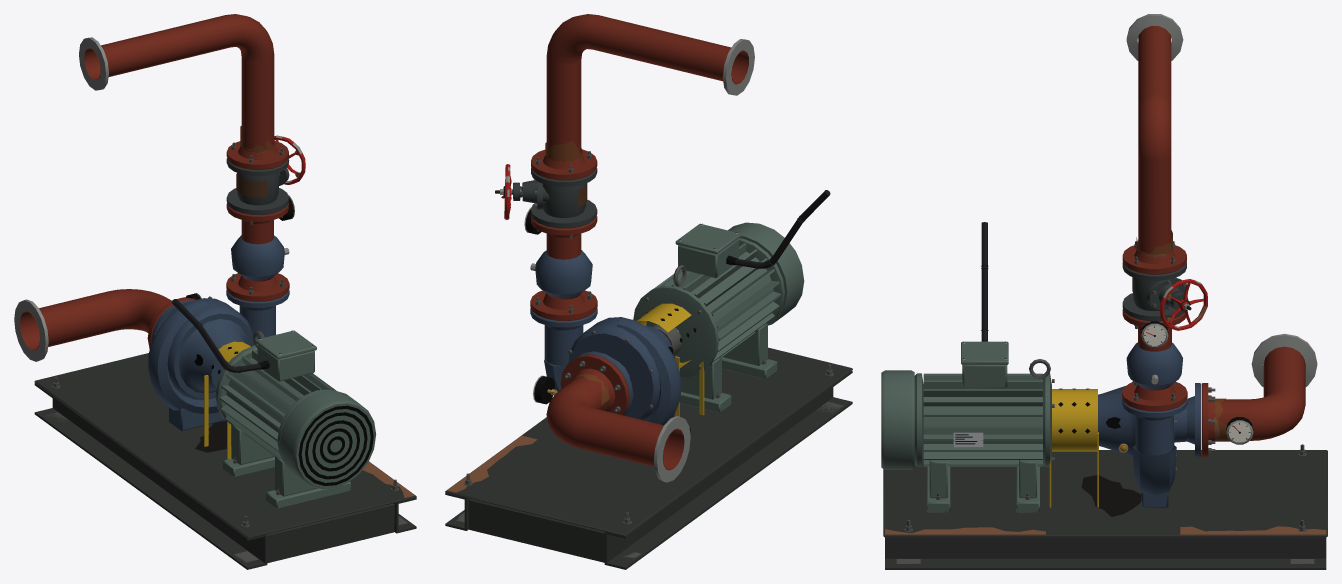
The model's file is mach_pump.glb.
The picture shows the model from 3 angles, left to right: view 1: azimuth 30°, elevation 25°; view 2: azimuth 150°, elevation 25°; view 3: azimuth 270°, elevation 25°; orthographic projection. The views are drawn at different scales.
Visible parts, largest first — view 1: pumpe0, pumpe13, pumpe2, pumpe10, pumpe3, pumpe17, pumpe14, pumpe1, pumpe9, pumpe6, pumpe22, pumpe18; view 2: pumpe0, pumpe13, pumpe2, pumpe10, pumpe17, pumpe14, pumpe1, pumpe9, pumpe6, pumpe21, pumpe20, pumpe5; view 3: pumpe0, pumpe2, pumpe13, pumpe10, pumpe9, pumpe14, pumpe17, pumpe20, pumpe22, pumpe1, pumpe16, pumpe6 (+3 smaller).
Part boxes in pixels (bbox=[...]): pumpe0: bbox=[34, 353, 416, 569]; pumpe13: bbox=[20, 14, 289, 350]; pumpe2: bbox=[215, 330, 376, 508]; pumpe10: bbox=[147, 235, 289, 431]; pumpe3: bbox=[194, 345, 373, 485]; pumpe17: bbox=[226, 158, 289, 214]; pumpe14: bbox=[14, 37, 108, 361]; pumpe1: bbox=[45, 142, 407, 562]; pumpe9: bbox=[204, 341, 250, 459]; pumpe6: bbox=[172, 299, 261, 372]; pumpe22: bbox=[195, 421, 231, 452]; pumpe18: bbox=[236, 174, 267, 197]; pumpe0: bbox=[445, 347, 852, 569]; pumpe13: bbox=[530, 14, 748, 470]; pumpe2: bbox=[633, 222, 804, 412]; pumpe10: bbox=[530, 250, 681, 425]; pumpe17: bbox=[513, 167, 597, 228]; pumpe14: bbox=[653, 39, 754, 482]; pumpe1: bbox=[456, 151, 843, 558]; pumpe9: bbox=[636, 303, 704, 416]; pumpe6: bbox=[735, 190, 830, 269]; pumpe21: bbox=[545, 141, 609, 410]; pumpe20: bbox=[447, 153, 545, 492]; pumpe5: bbox=[525, 209, 737, 404]; pumpe0: bbox=[883, 450, 1327, 569]; pumpe2: bbox=[881, 341, 1051, 512]; pumpe13: bbox=[1122, 26, 1305, 457]; pumpe10: bbox=[1098, 342, 1200, 507]; pumpe9: bbox=[1049, 389, 1098, 507]; pumpe14: bbox=[1126, 14, 1317, 386]; pumpe17: bbox=[1122, 262, 1188, 321]; pumpe20: bbox=[885, 254, 1326, 534]; pumpe22: bbox=[1081, 475, 1141, 516]; pumpe1: bbox=[896, 241, 1314, 563]; pumpe16: bbox=[1146, 279, 1239, 431]; pumpe6: bbox=[981, 222, 988, 341].
Size of the model in its own units: 0.8799 by 1.69 by 1.5.
